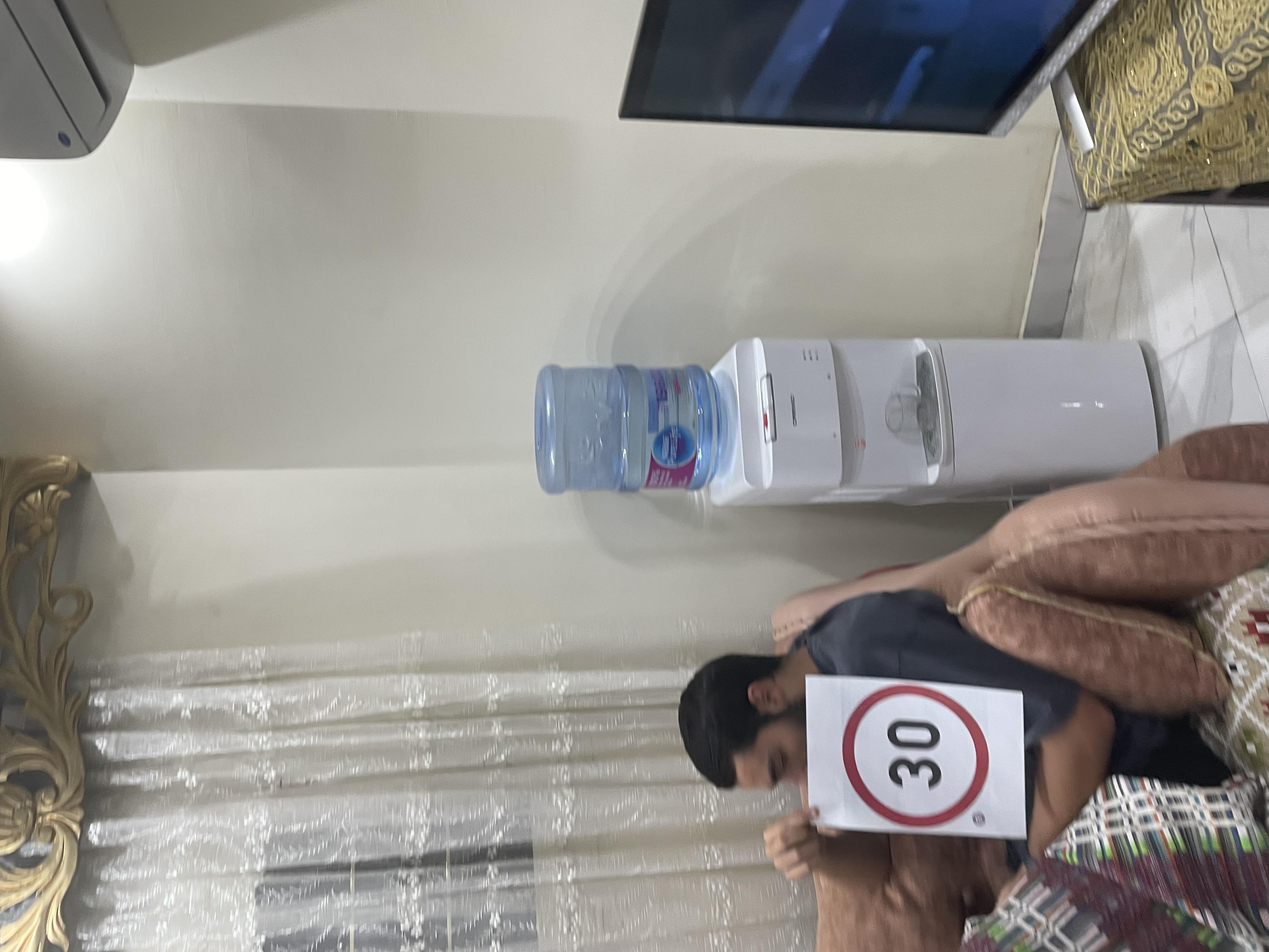30-speed: (163, 626, 362, 745)
